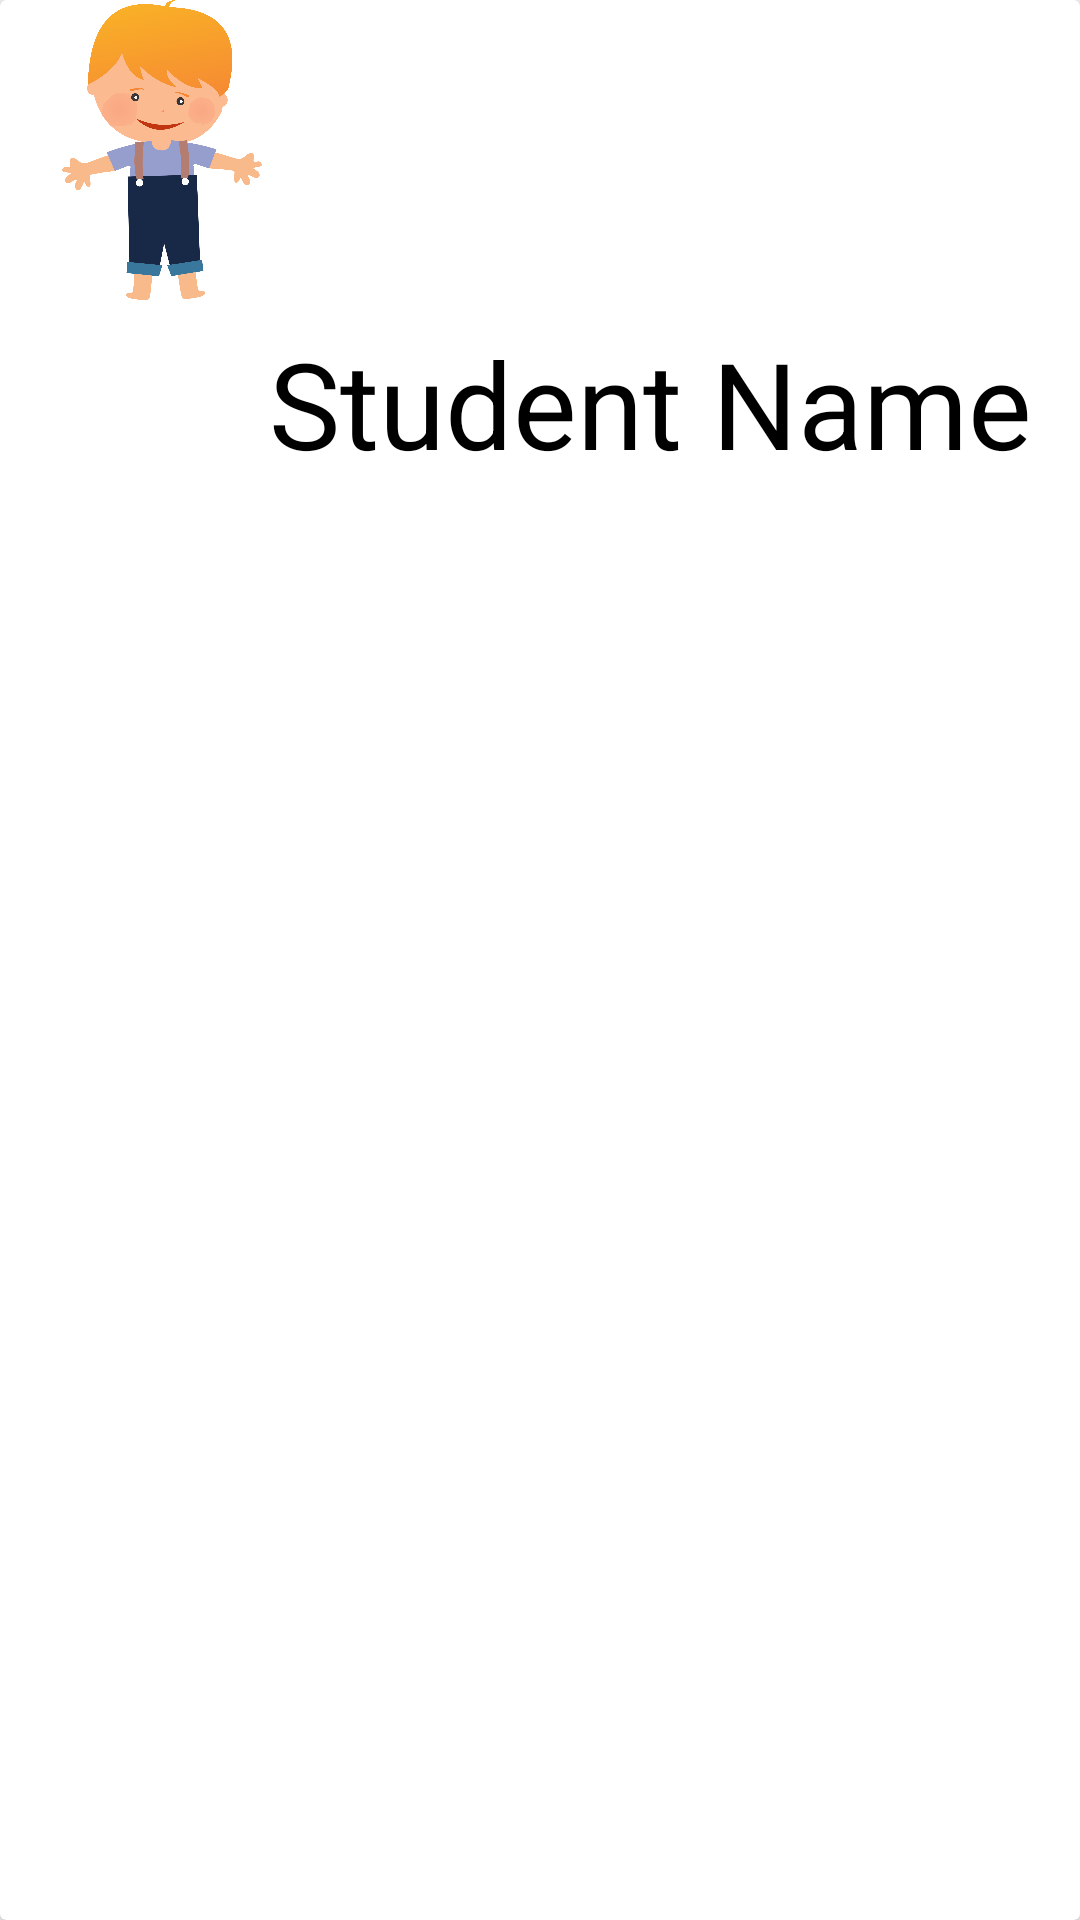

Named icons in this screenshot (1080px x 1920px) and their centers, (x,y):
childicon: (162,150)
